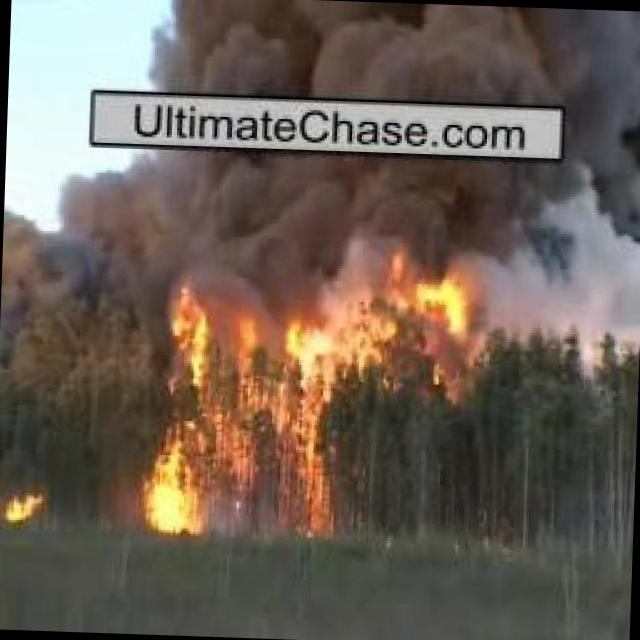Fire: (128, 262, 472, 540), (5, 487, 40, 523)
Smoke: (67, 143, 640, 263), (159, 0, 640, 107)
